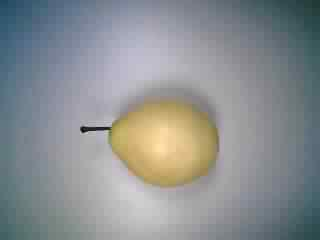pear: (72, 89, 233, 193)
